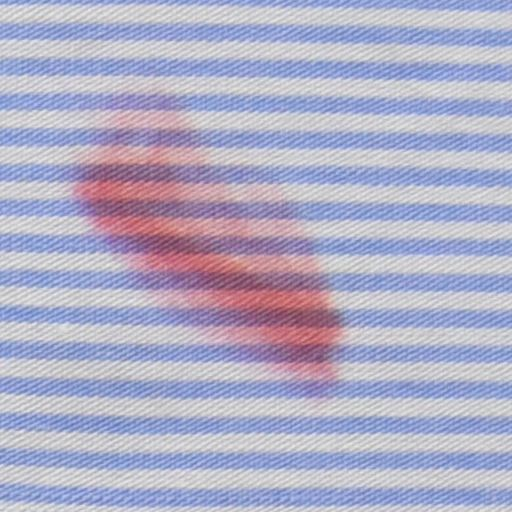defect: (80, 100, 330, 378)
